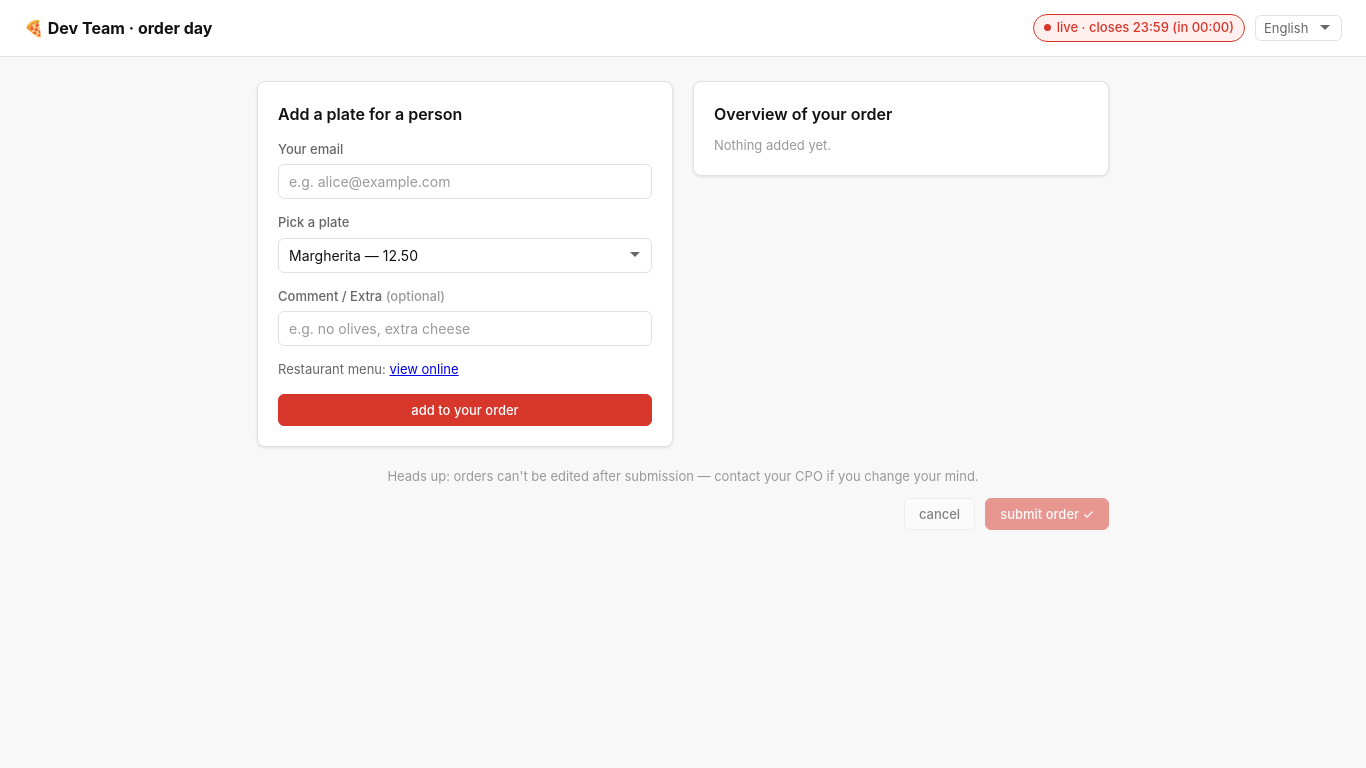
Test case: TeamOrderPage › email mode › shows an error when adding to cart with an empty email
expect the field labelled "Your email" is shown: met, box [278,164,652,199]
Click the button "add to your order".
click(465, 410)  # box [278,394,652,426]
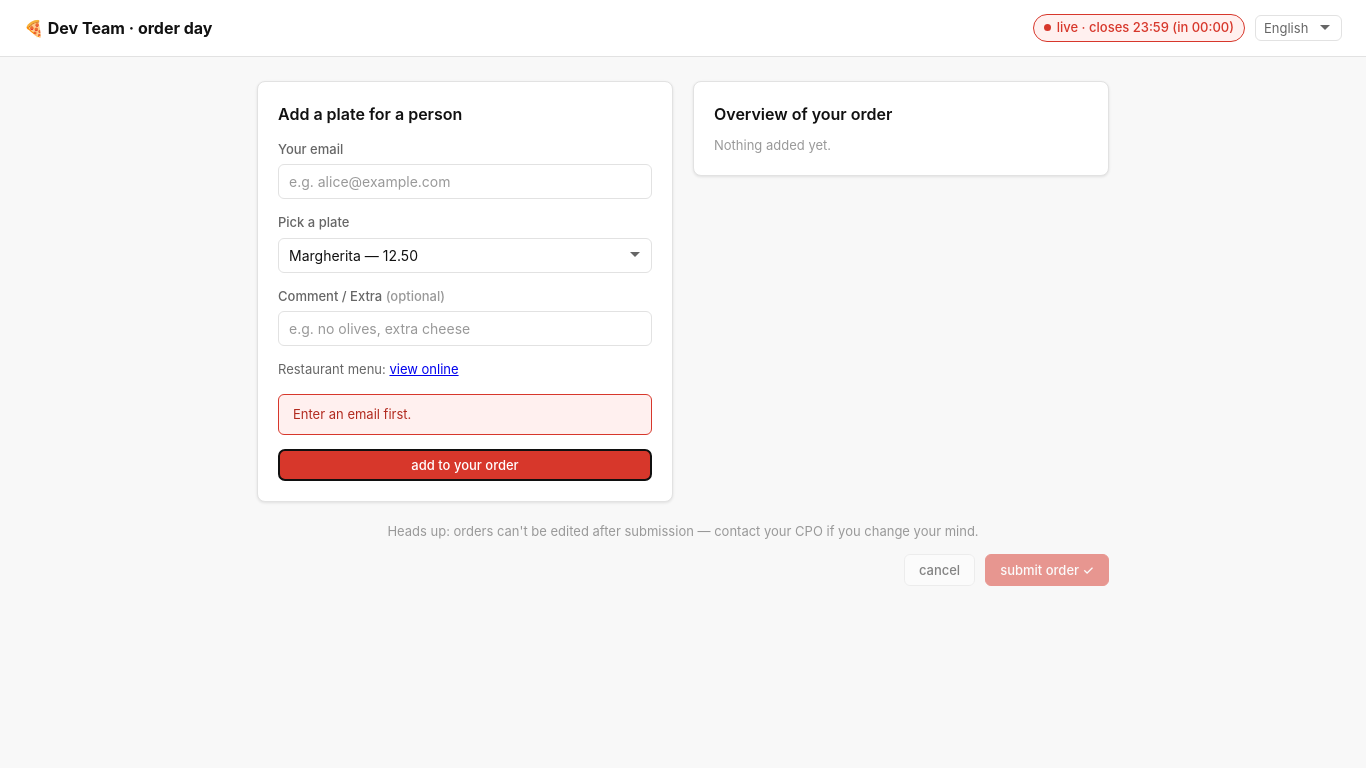
expect the text "Enter an email first." is shown: met, box [278,394,652,435]
